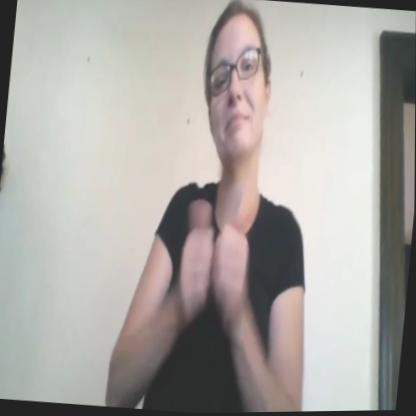HowAreYou: (177, 191, 257, 327)
